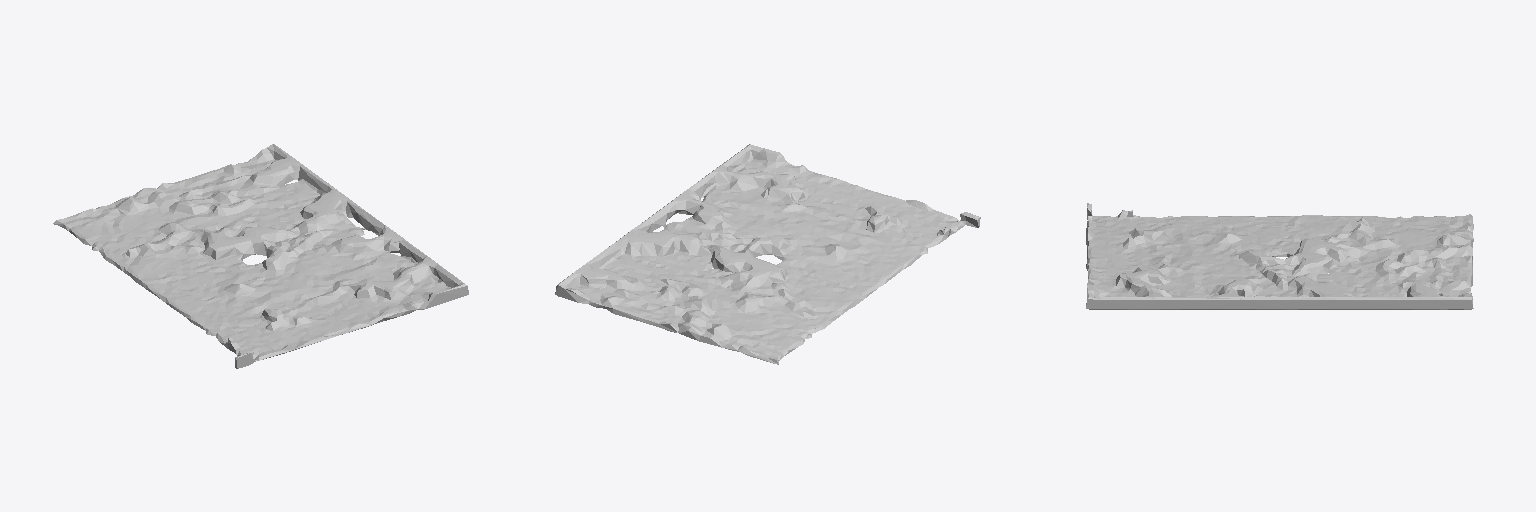
3 views of the same model, side by side, from view 1: azimuth 30°, elevation 25°; view 2: azimuth 150°, elevation 25°; view 3: azimuth 270°, elevation 25° (orthographic).
Parts seen in each view (by area): view 1: Liquid_Domain; view 2: Liquid_Domain; view 3: Liquid_Domain.
Boxes of the visible parts, x1,y1,x2,y2 form: Liquid_Domain: [53, 144, 468, 368]; Liquid_Domain: [555, 144, 980, 364]; Liquid_Domain: [1086, 203, 1473, 309].
Size of the model in its own units: 116 by 13.76 by 168.